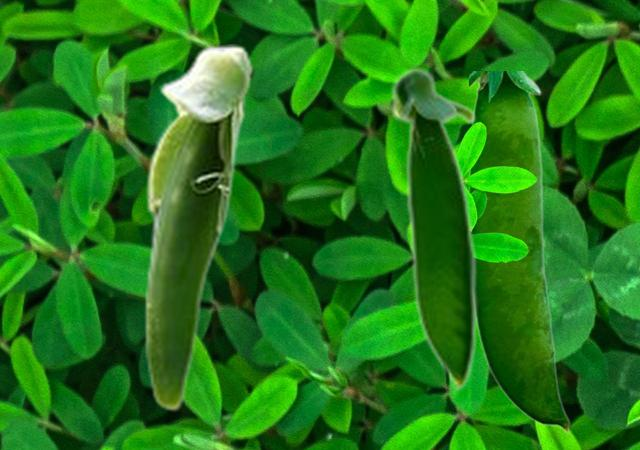pea: (143, 44, 253, 411), (469, 71, 569, 433), (389, 65, 477, 396)
